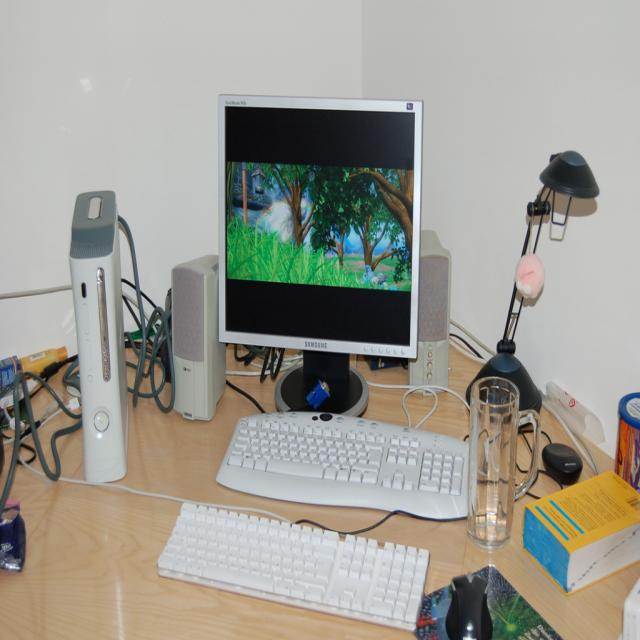desk: (0, 336, 639, 639)
keyboard: (157, 501, 432, 631), (216, 410, 470, 522)
mouse: (445, 570, 493, 640)
tv: (218, 95, 423, 363)
